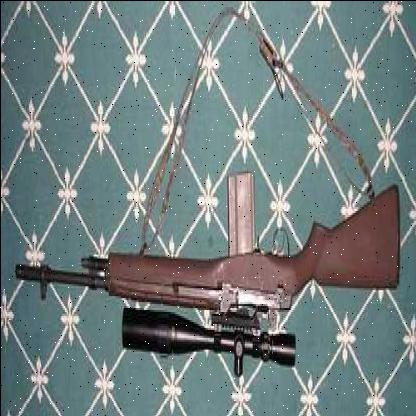rifle: (5, 123, 398, 386)
